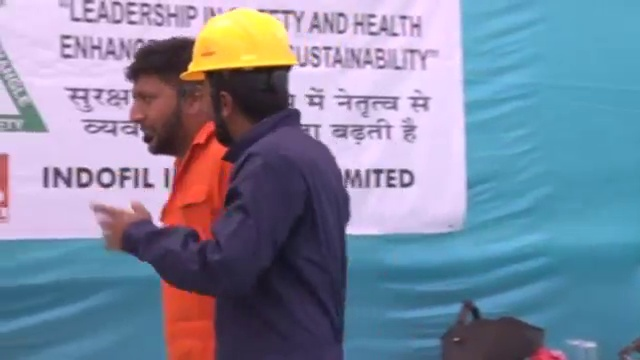helmet: (180, 8, 300, 82)
helmet_off: (126, 37, 208, 156)
helmet_on: (179, 9, 322, 148)
person: (86, 7, 344, 360), (124, 36, 228, 360)
